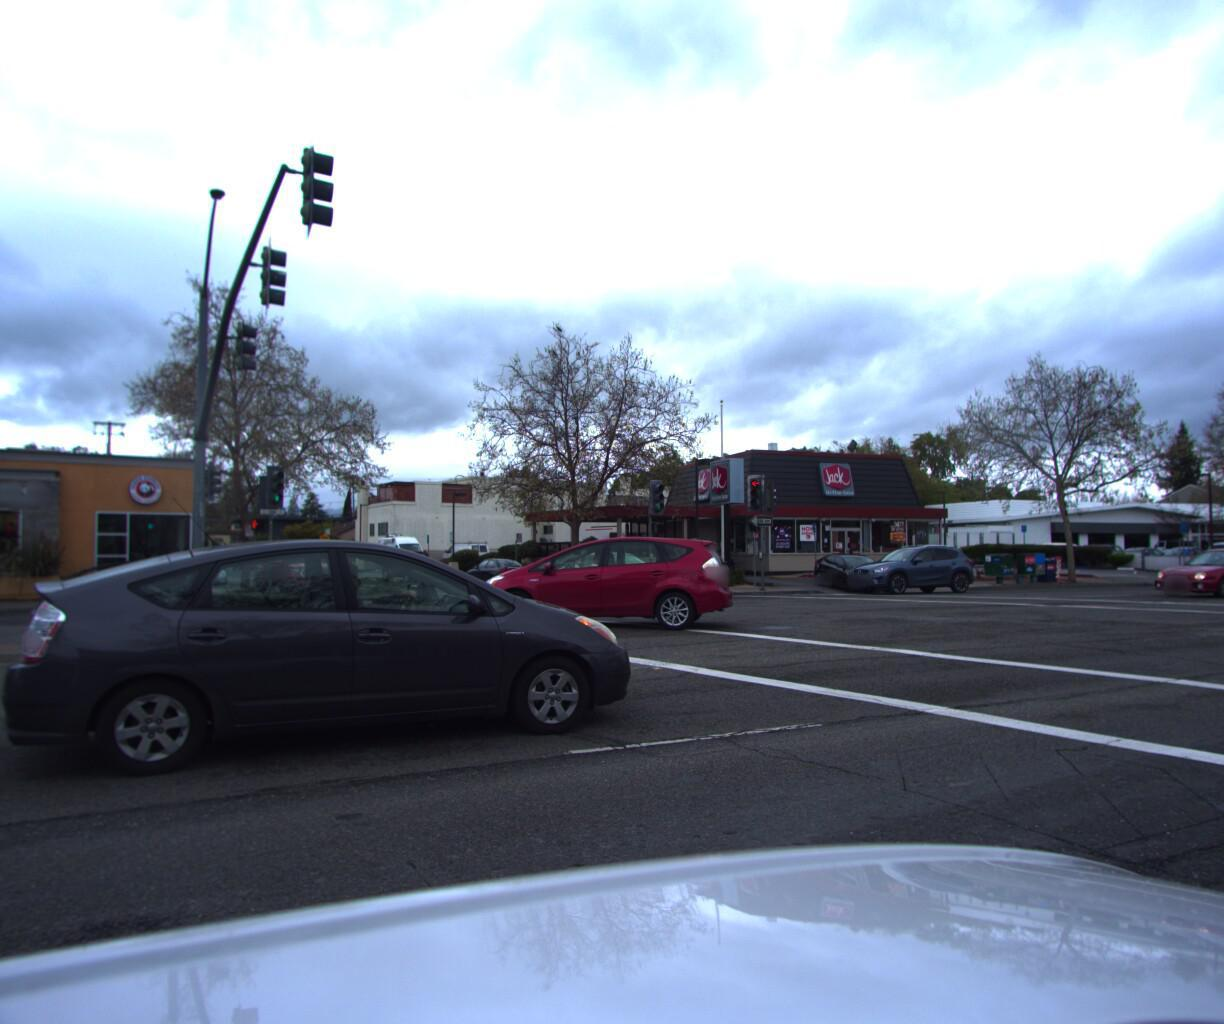car: (0, 520, 654, 801), (461, 538, 736, 639), (839, 549, 977, 601), (251, 557, 344, 606), (1143, 552, 1224, 605), (380, 555, 452, 594), (463, 565, 535, 600), (1124, 543, 1198, 571), (1219, 551, 1224, 594)
truck: (375, 540, 431, 578)
